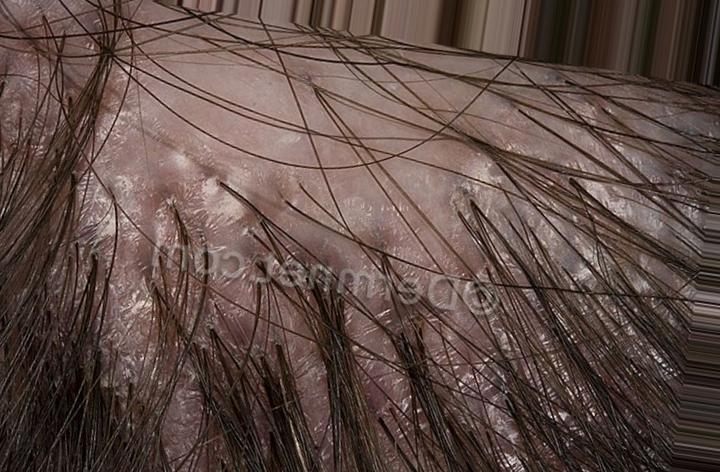Folliculitis: (140, 120, 518, 220)
